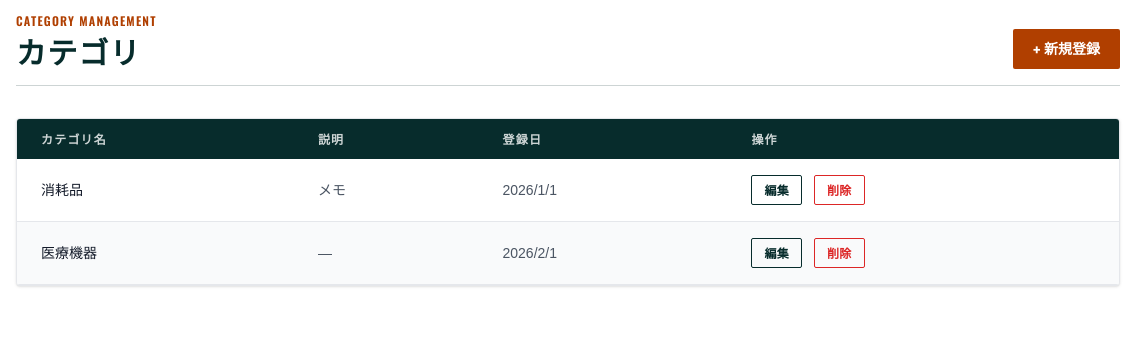
CategoriesPage › 削除でfetchが例外を投げた場合もエラーバナーを表示する
Expected: the text "消耗品" is shown, [17, 159, 294, 222]
Click the button "削除" in the row of "消耗品" at coordinates (839, 190), box [814, 175, 865, 205]
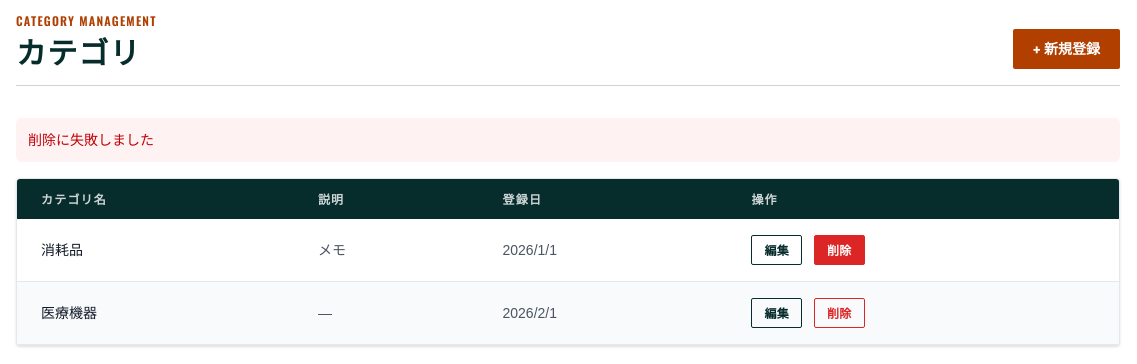
Result: the text "削除に失敗しました" is shown at [16, 118, 1120, 162]
